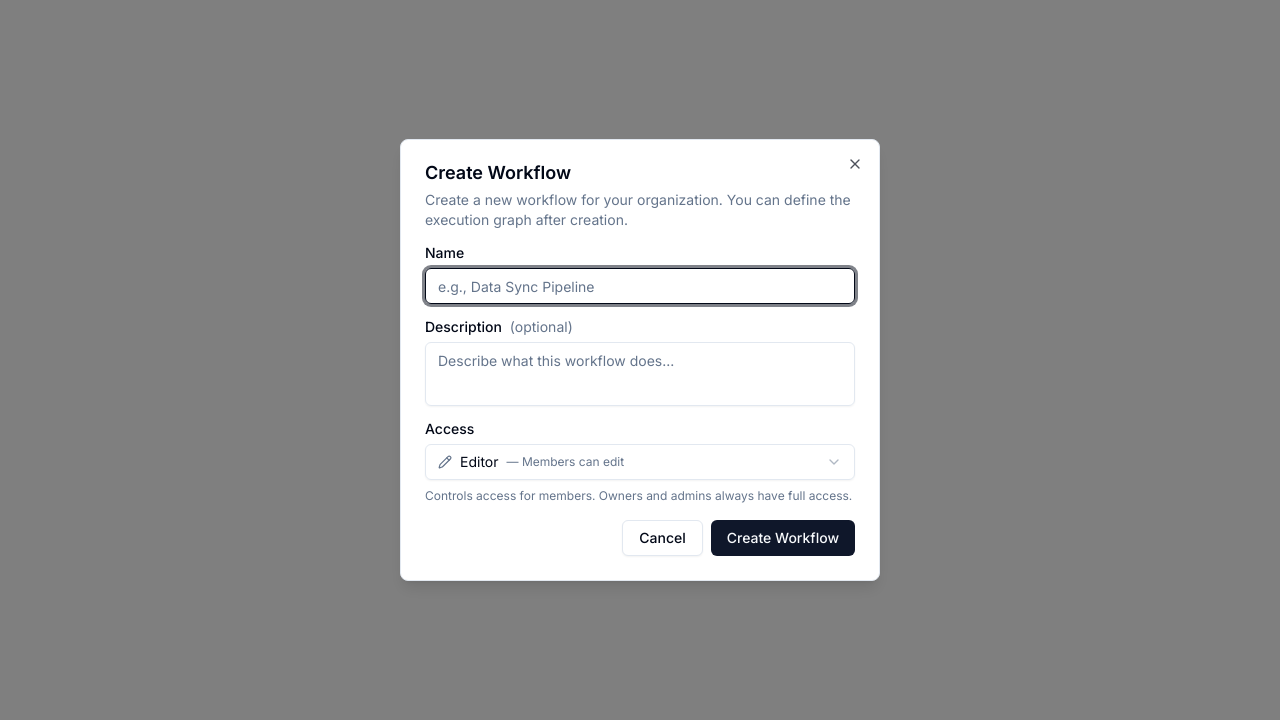
Test: CreateWorkflowDialog › should show validation error for short name
This screenshot has width=1280, height=720.
Type "AB" into the field with placeholder "e.g., Data Sync Pipeline". click: {"x": 640, "y": 286}
box: left=425, top=268, right=855, bottom=304
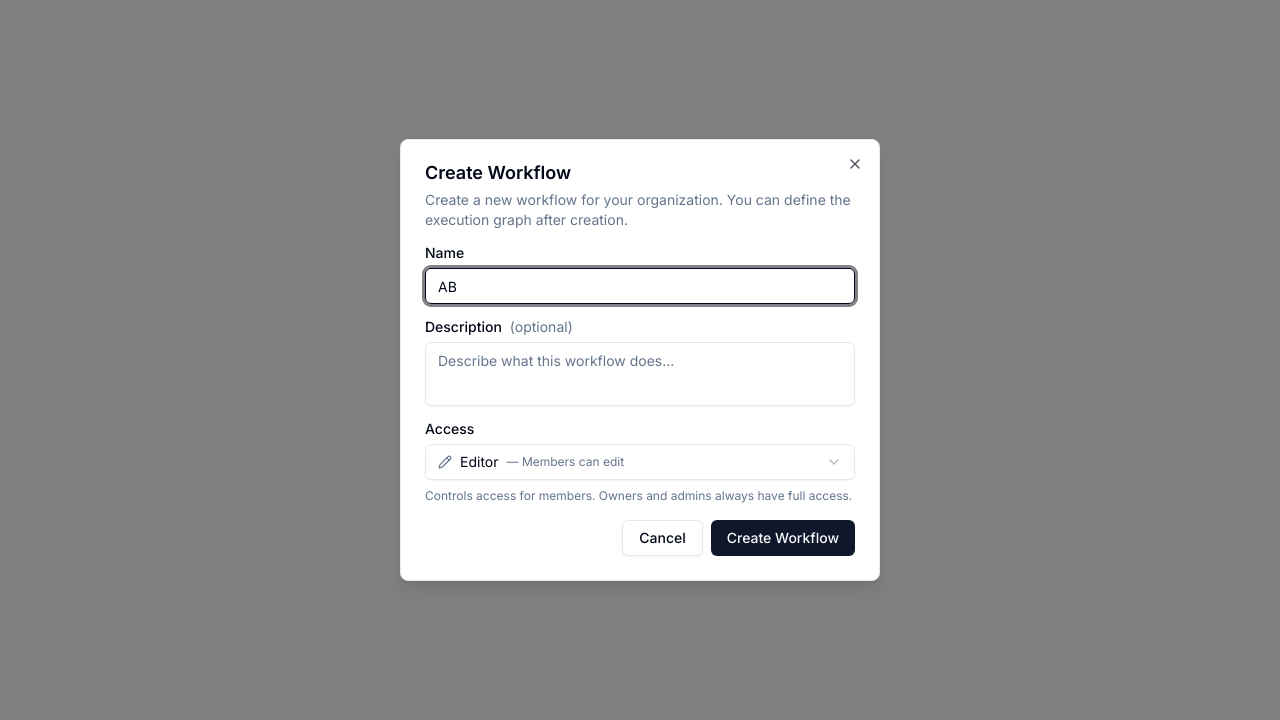
Click the button "Create Workflow". click: {"x": 783, "y": 538}
box: left=711, top=520, right=855, bottom=556
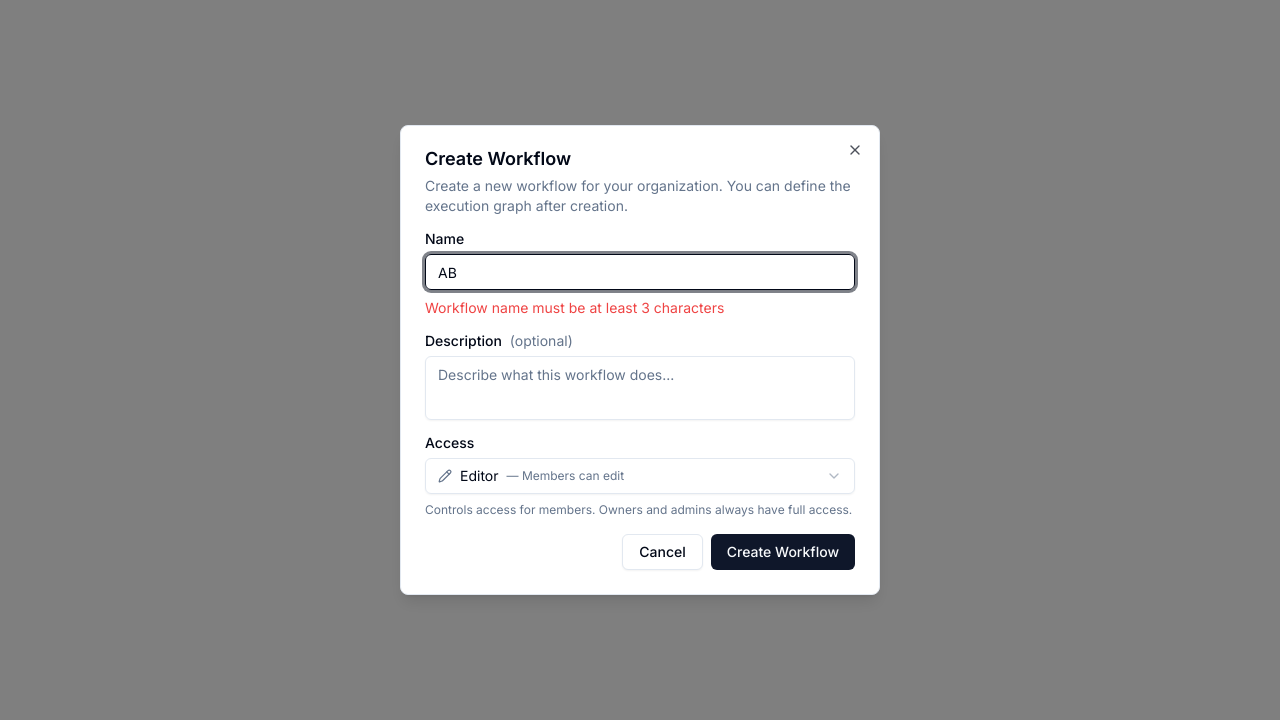
Check: the text "Workflow name must be at least 3 characters" is shown, box left=425, top=299, right=724, bottom=316
